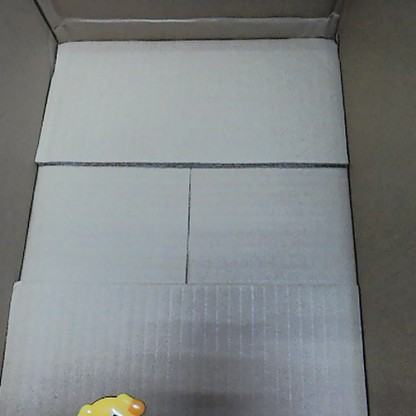dogclip: (71, 391, 152, 414)
